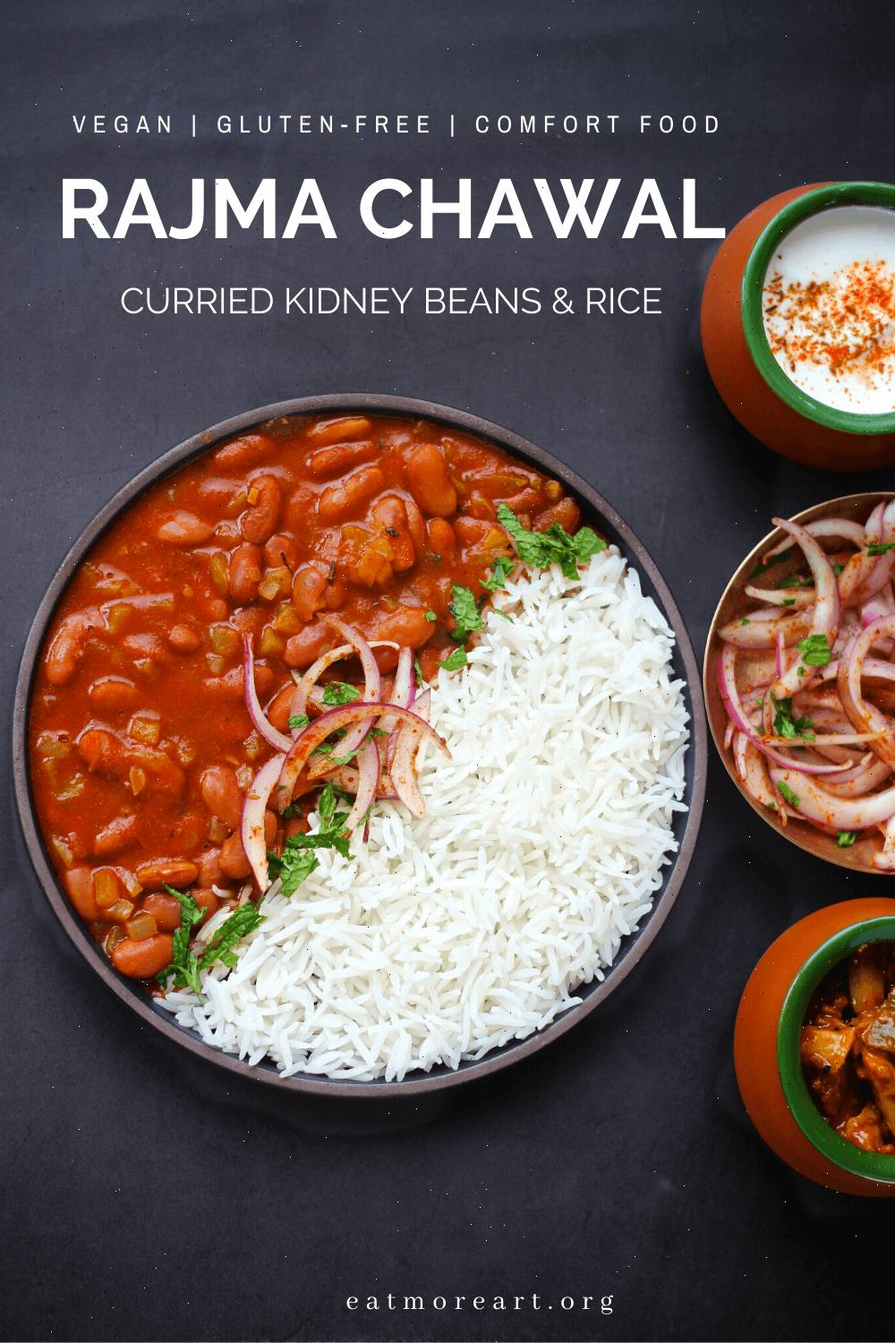rajma: (49, 461, 460, 823)
rice: (212, 778, 655, 1022), (210, 765, 595, 1020), (284, 846, 575, 1028)
salad: (753, 541, 895, 844)
yogurt: (780, 194, 895, 398)
